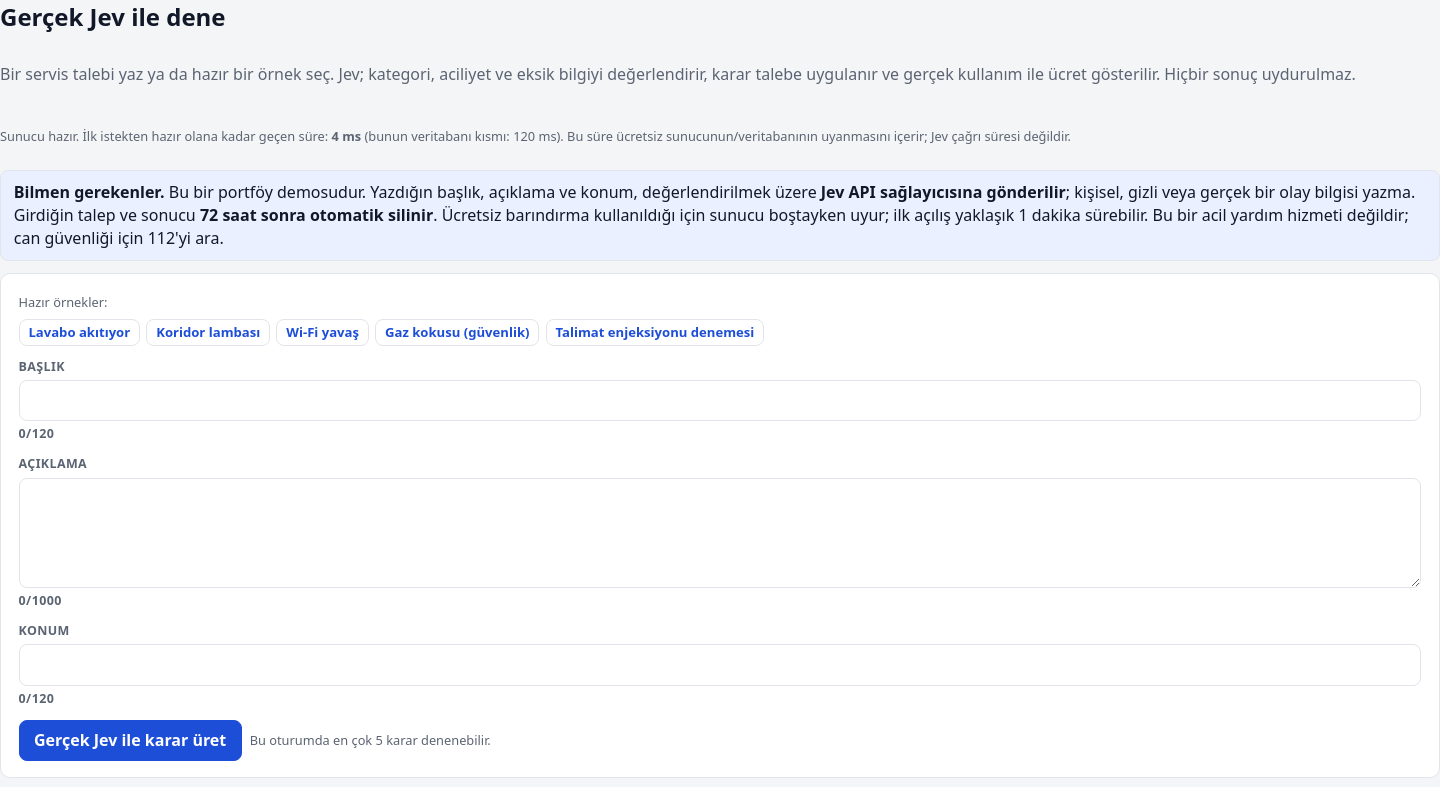
Scenario: DemoPage: form › geçersiz girdide hata gösterir ve istek GÖNDERMEZ
This screenshot has width=1440, height=787.
Check: the element with test id "wake-summary" is shown, box [0,127,1071,145]
In the field labelled "Başlık 0/120": (720, 401) [19,380,1421,421], type "ab"
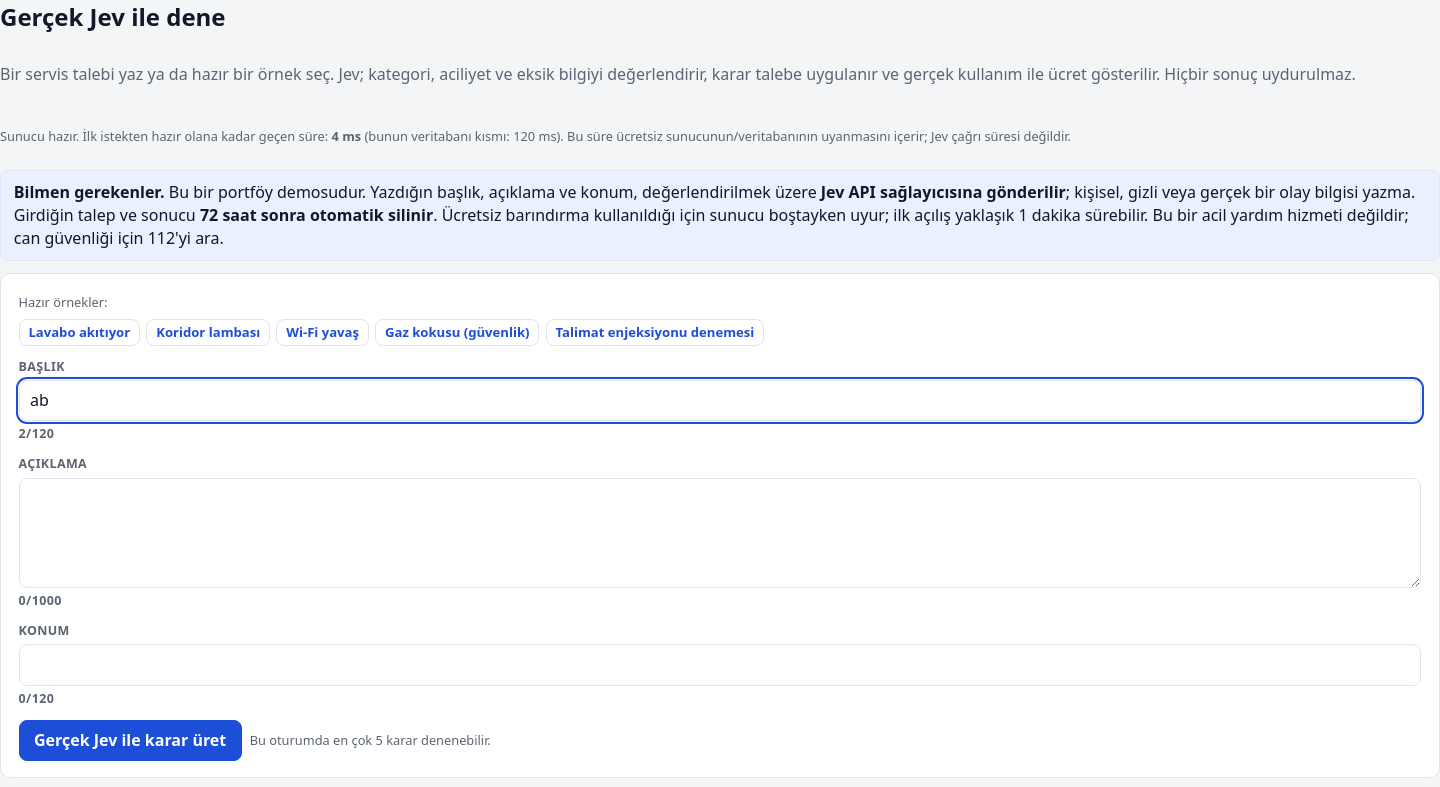
Click the button "Gerçek Jev ile karar üret": (130, 740) [19,720,242,761]
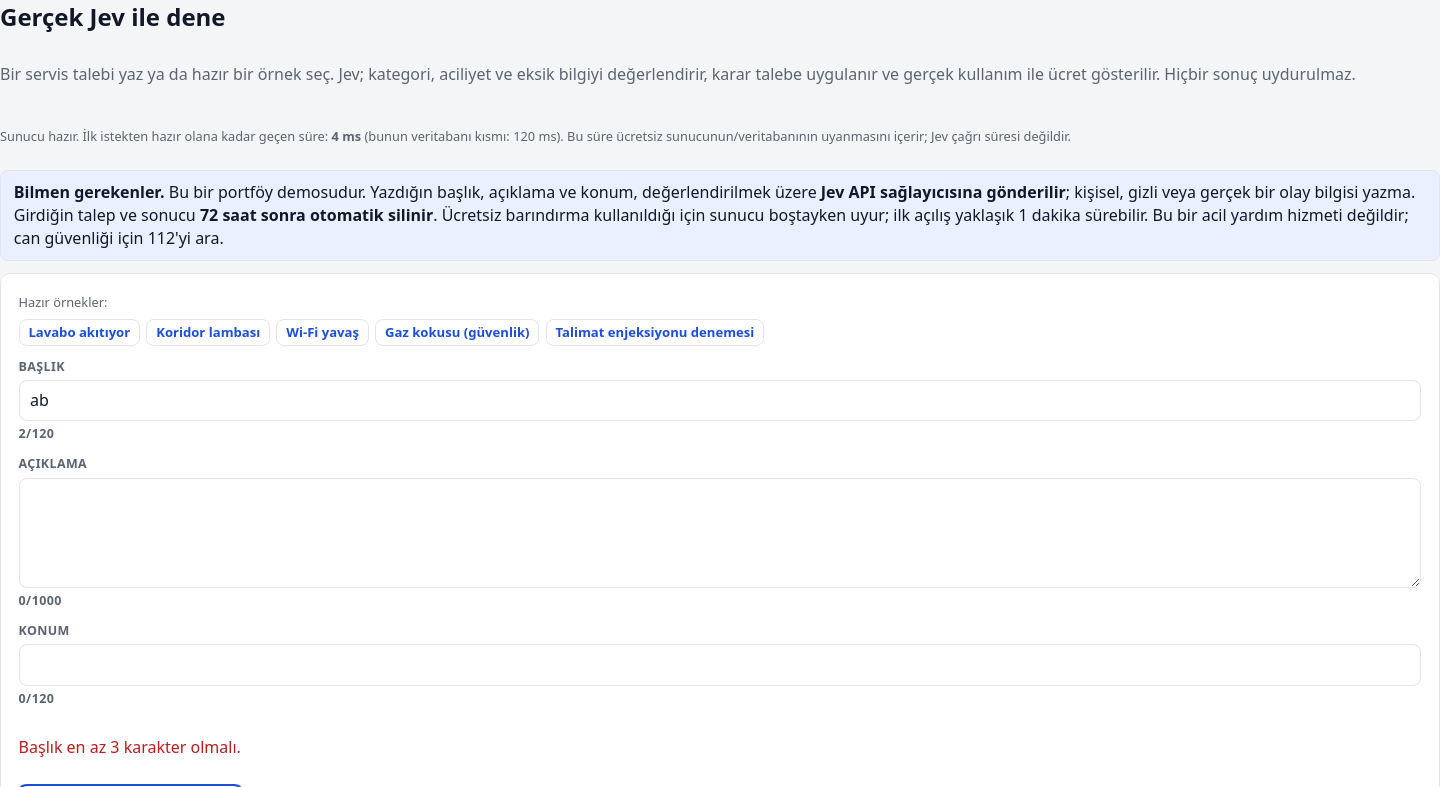
Check: the text "Başlık en az 3 karakter olmalı." is shown, box [19,736,241,758]
